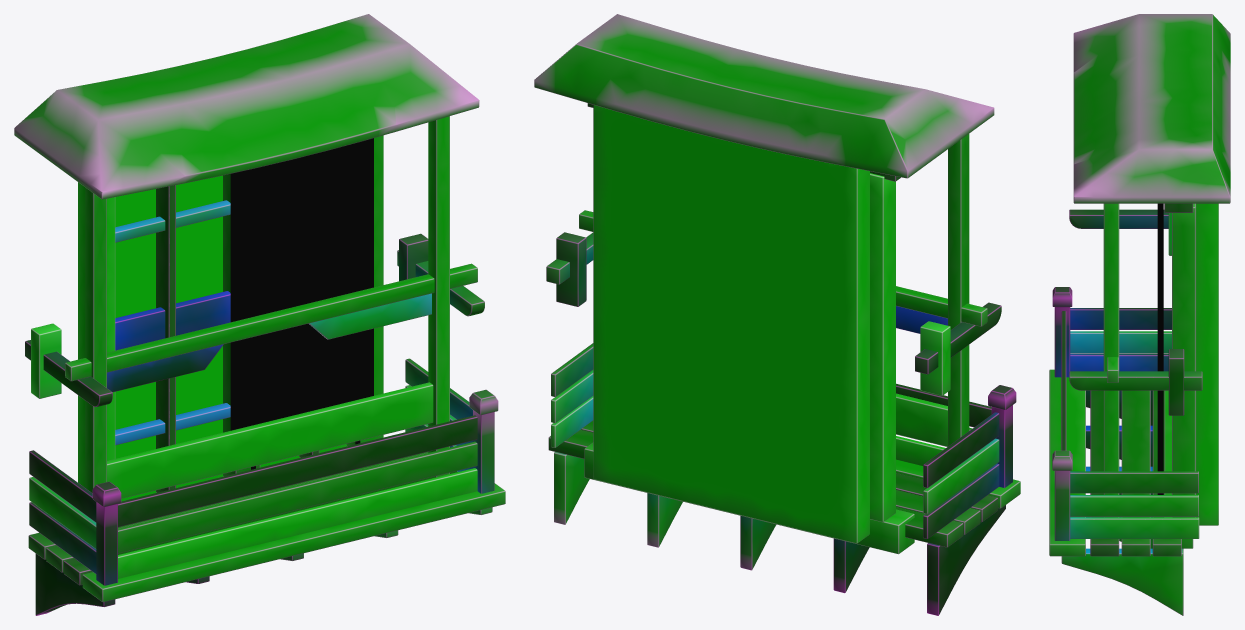
File: window_400x300_11.fbx
3 views of the same model, side by side, from view 1: azimuth 30°, elevation 25°; view 2: azimuth 150°, elevation 25°; view 3: azimuth 270°, elevation 25° (orthographic). The views are drawn at different scales.
Visible parts, largest first — view 1: window_400x300_11; view 2: window_400x300_11; view 3: window_400x300_11.
Boxes of the visible parts, bbox=[...] form: window_400x300_11: bbox=[14, 14, 505, 615]; window_400x300_11: bbox=[534, 14, 1020, 615]; window_400x300_11: bbox=[1049, 14, 1230, 615].
Size of the model in its own units: 2.12 by 2.5 by 0.9126.
